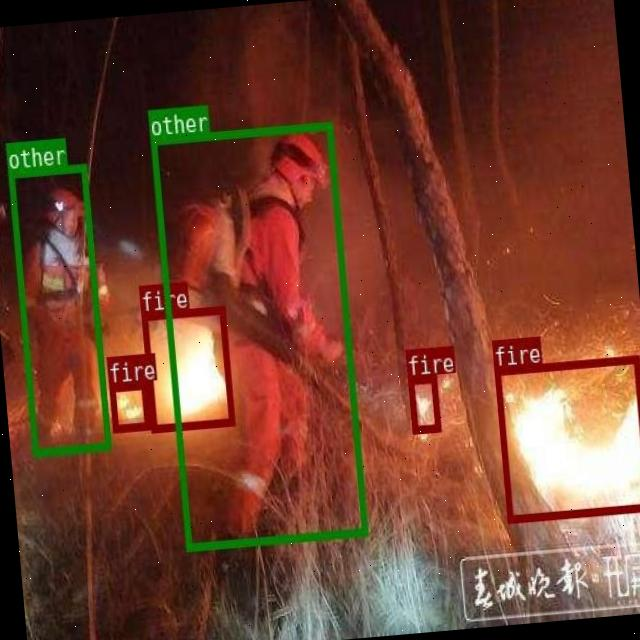fire: (493, 353, 640, 520), (140, 306, 233, 432), (406, 374, 440, 434), (108, 380, 148, 430)
